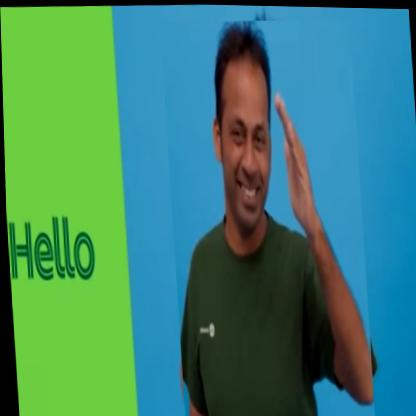Hello: (159, 15, 373, 416)
